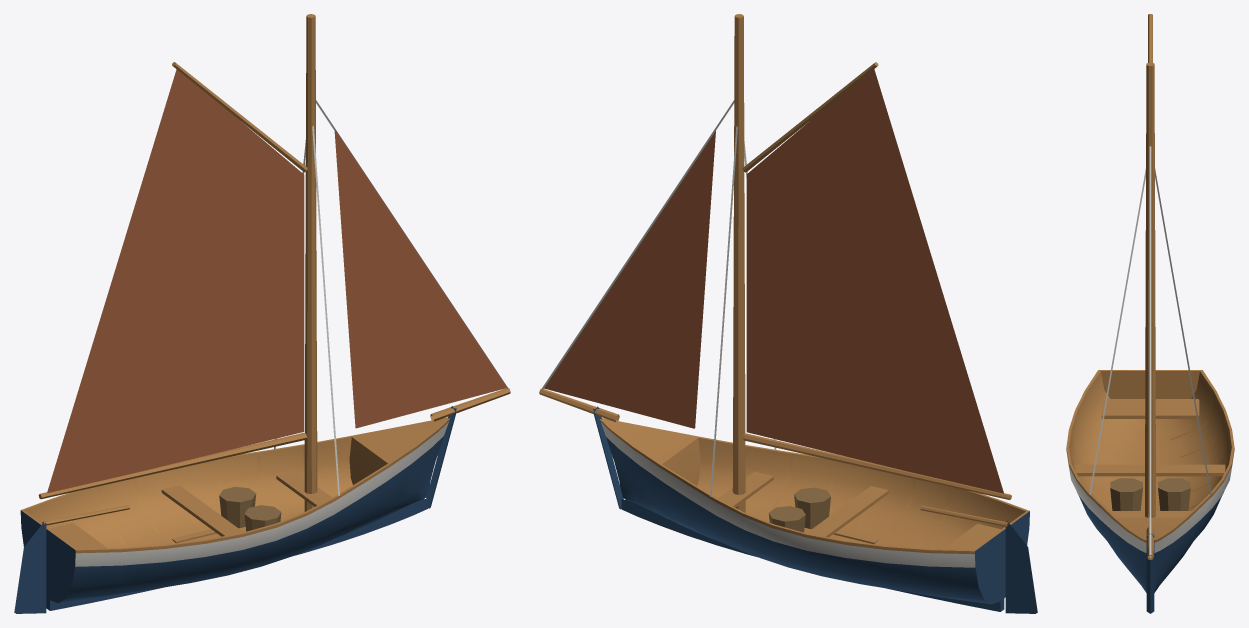
The model's file is boat_sail.glb.
3 views of the same model, side by side, from view 1: azimuth 30°, elevation 25°; view 2: azimuth 150°, elevation 25°; view 3: azimuth 270°, elevation 25° (orthographic). The views are drawn at different scales.
Parts seen in each view (by area): view 1: boat_sail_main_lod0, boat_sail_lod0, boat_sail_jib_lod0; view 2: boat_sail_main_lod0, boat_sail_lod0, boat_sail_jib_lod0; view 3: boat_sail_lod0.
Part boxes in pixels (left/top/right/bottom): boat_sail_main_lod0: left=38, top=62, right=307, bottom=499; boat_sail_lod0: left=14, top=14, right=510, bottom=613; boat_sail_jib_lod0: left=334, top=129, right=507, bottom=428; boat_sail_main_lod0: left=742, top=62, right=1011, bottom=499; boat_sail_lod0: left=539, top=14, right=1037, bottom=613; boat_sail_jib_lod0: left=544, top=131, right=715, bottom=428; boat_sail_lod0: left=1066, top=62, right=1234, bottom=613.
Size of what is drawn, in the model's own units: 6.13 by 6.32 by 1.9.
